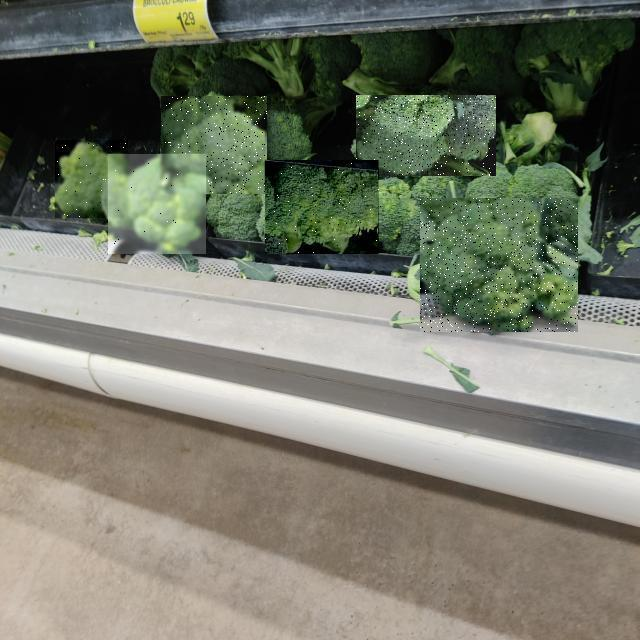broccoli: (131, 166, 640, 499), (75, 128, 457, 382), (108, 88, 604, 264), (6, 127, 212, 381), (28, 97, 294, 291), (0, 109, 119, 327)
